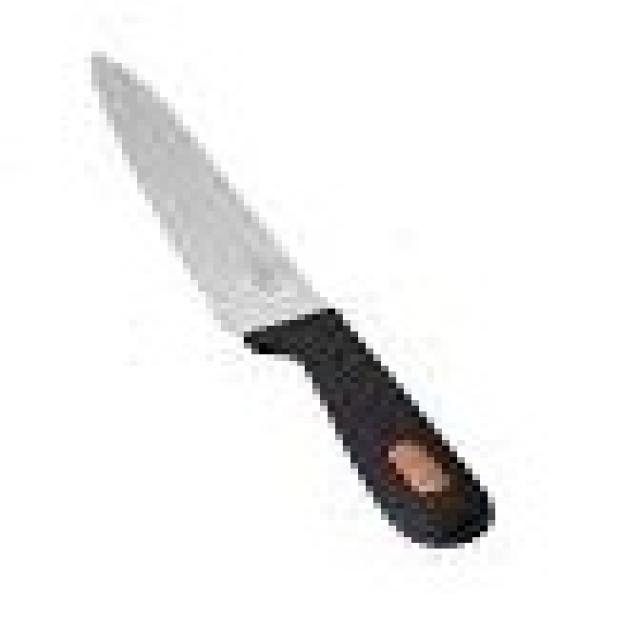knife: (85, 43, 511, 557)
